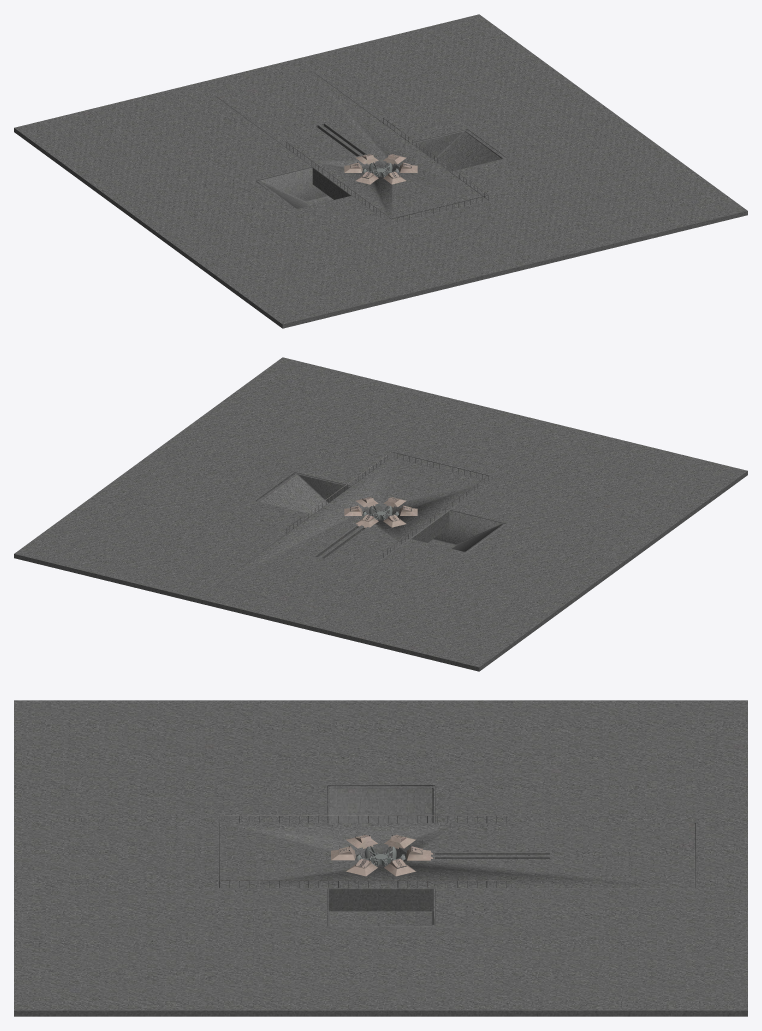
The model's file is pad-v1.glb.
3 views of the same model, one above another, from view 1: azimuth 30°, elevation 25°; view 2: azimuth 150°, elevation 25°; view 3: azimuth 270°, elevation 25° (orthographic). The views are drawn at different scales.
Parts seen in each view (by area): view 1: Proton pad; view 2: Proton pad; view 3: Proton pad.
Boxes of the visible parts, <box> form: Proton pad: <box>14,14,747,328</box>; Proton pad: <box>14,357,747,671</box>; Proton pad: <box>14,700,747,1016</box>.
Size of the model in its own units: 122 by 9.73 by 122.
2 materials, 2 textured.
